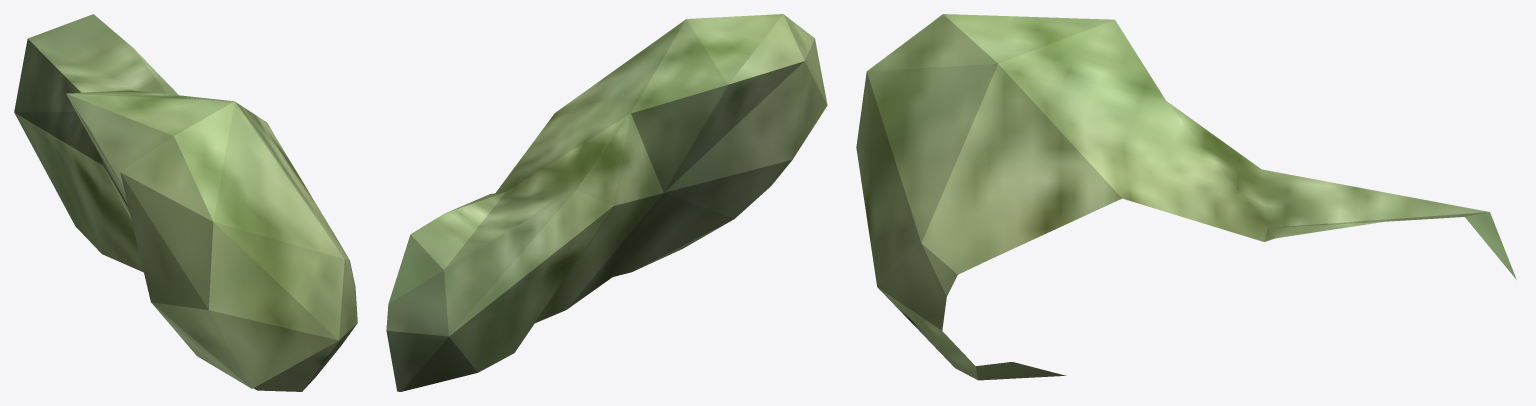
The picture shows the model from 3 angles, left to right: view 1: azimuth 30°, elevation 25°; view 2: azimuth 150°, elevation 25°; view 3: azimuth 270°, elevation 25°; orthographic projection. The views are drawn at different scales.
Size of the model in its own units: 0.3909 by 0.4903 by 1.02.
Materials: 1 (1 with a texture image).
